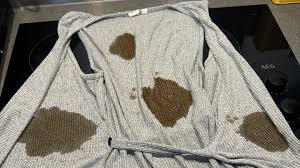coffee: (26, 111, 81, 146), (146, 82, 186, 118), (249, 119, 273, 142), (113, 36, 135, 58)
